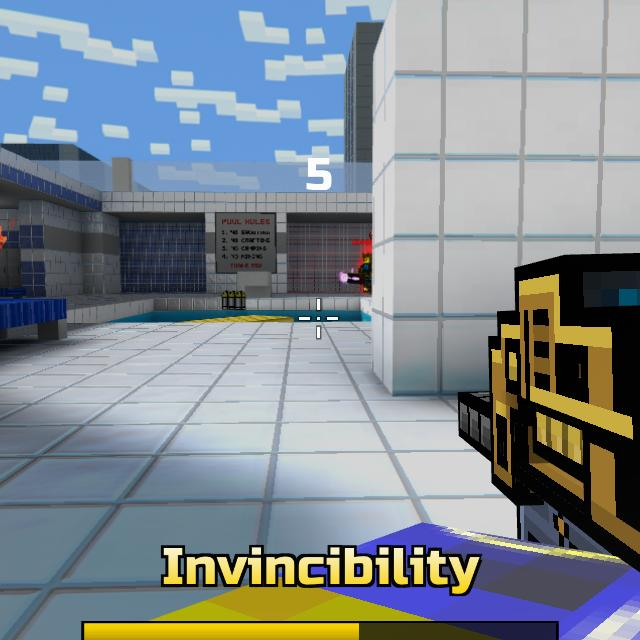Enemy: (358, 253, 371, 295)
